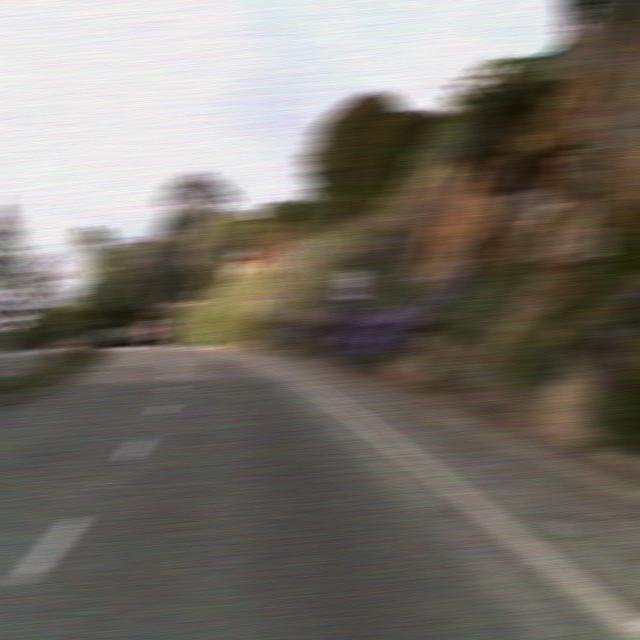speedLimit40: (338, 268, 366, 300)
